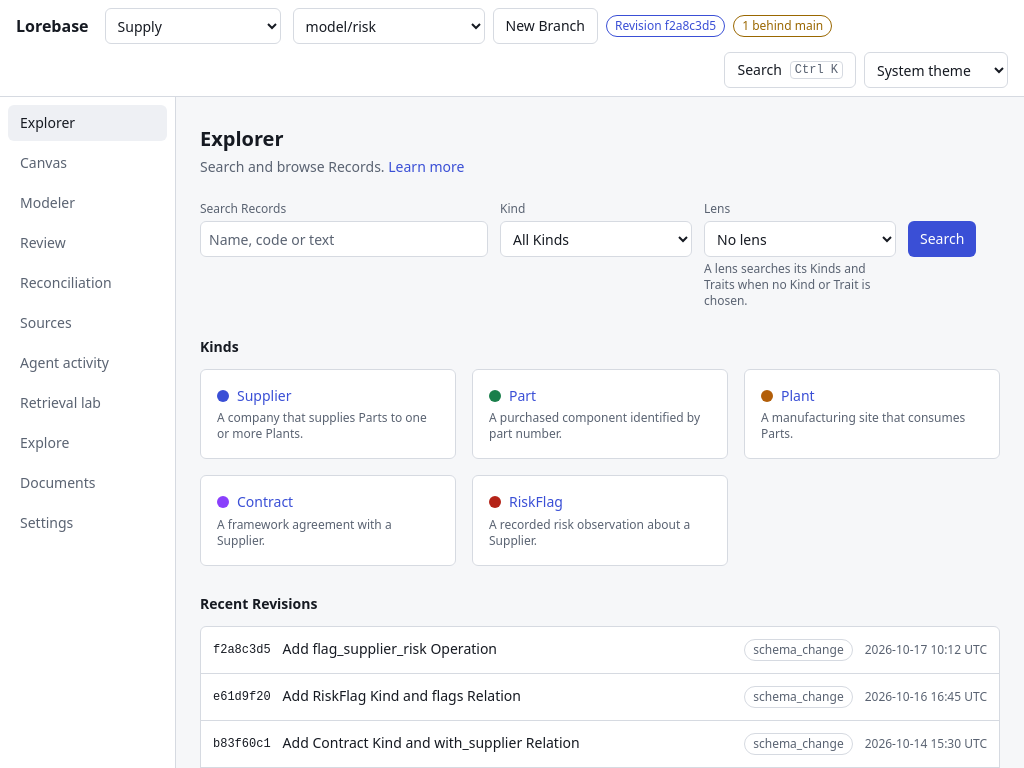
Test: app shell › creates a Branch from the Branch on screen and switches to it
Expected: the dropdown named "Branch" in the row of "Revision f2a8c3d5" is shown, [292,8,484,44]
Step 1. Click the button "New Branch" → click(545, 26), box [492,8,598,44]
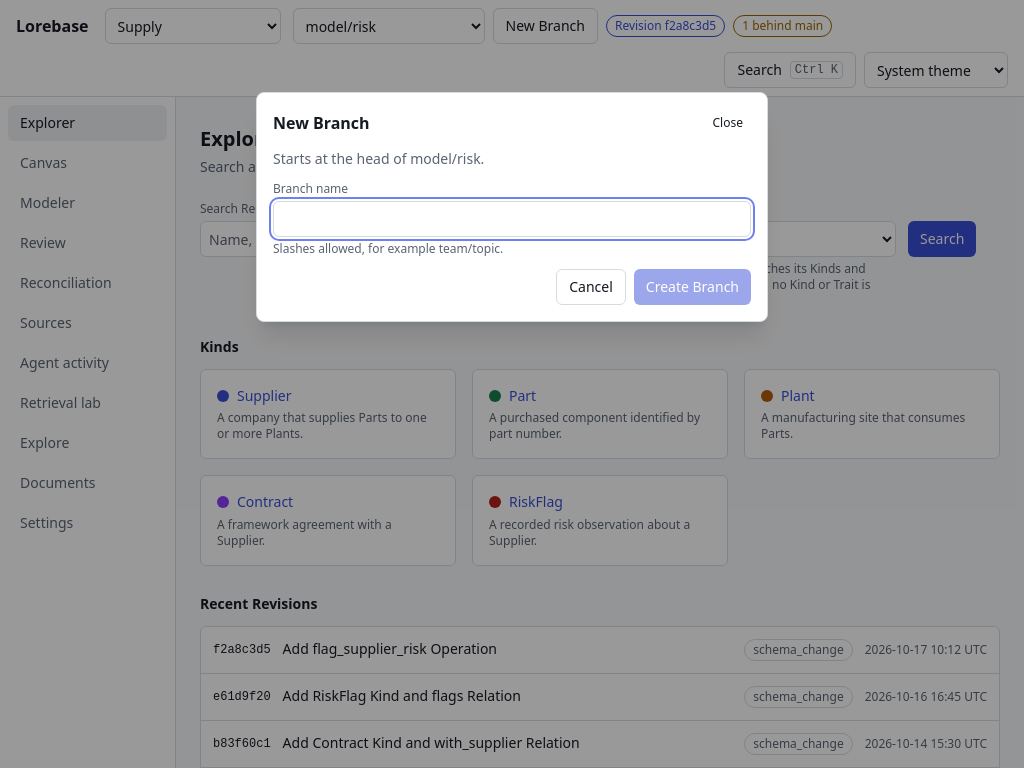
Expected: the dialog "New Branch" shows "Starts at the head of model/risk", [273,149,484,168]
Step 2. Type "work/ui" into the field labelled "Branch name" → (512, 219), box [273,201,751,237]
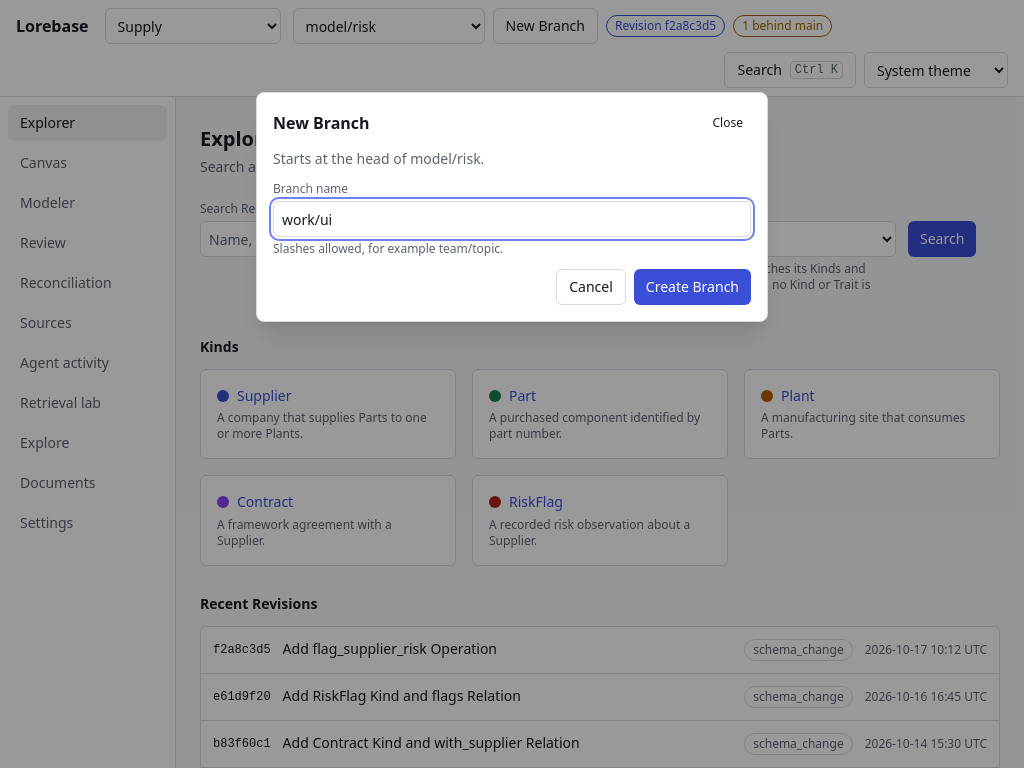
Step 3. Click the button "Create Branch" → click(692, 287), box [634,269,751,305]
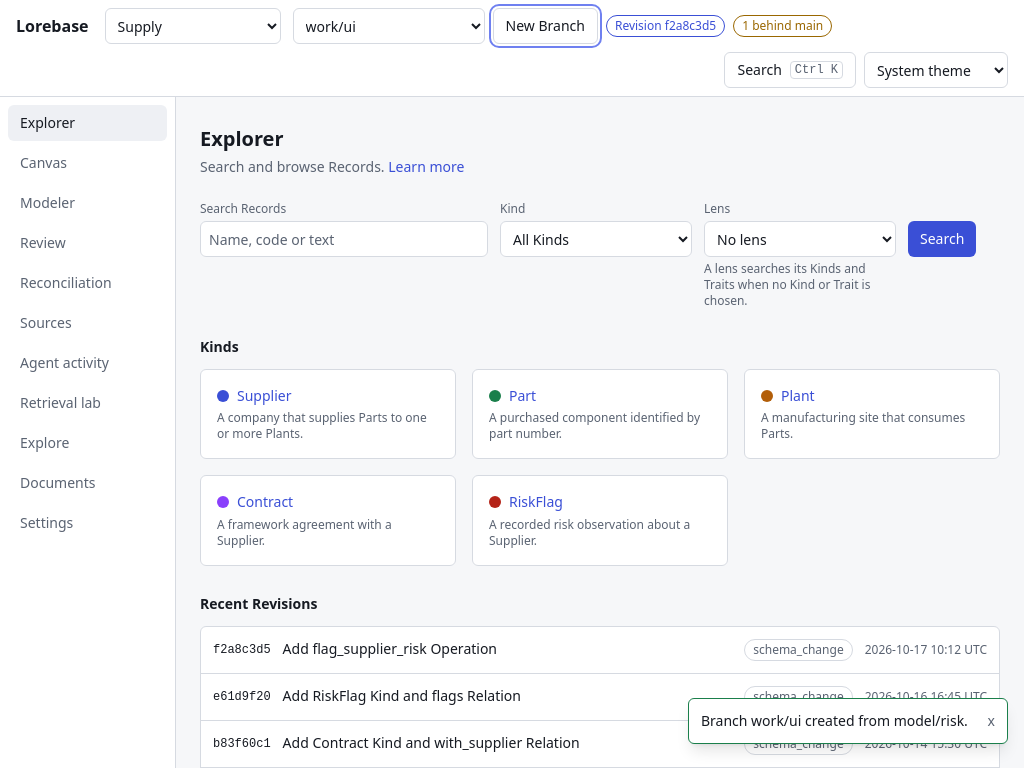
Expected: the text "Branch work/ui created from model/risk." is shown, [701,711,968,731]
Expected: the dialog is gone
Expected: the dropdown named "Branch" in the row of "Revision f2a8c3d5" shows "work/ui", [292,8,484,44]
